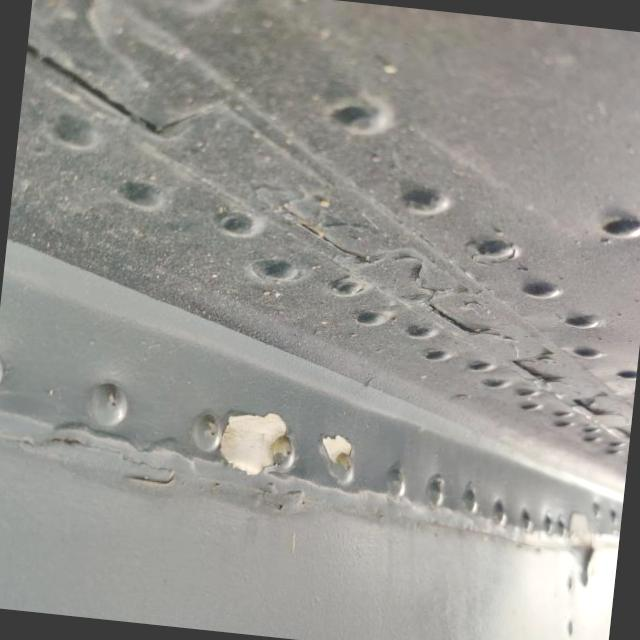paint-off: (200, 396, 305, 493), (310, 426, 364, 484)
